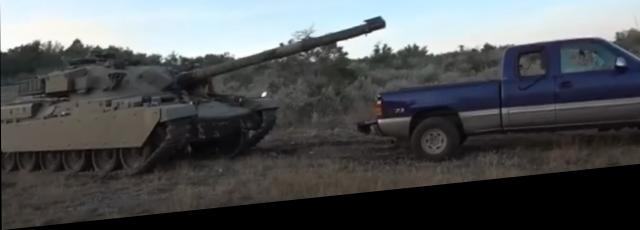tank: (0, 58, 211, 181)
